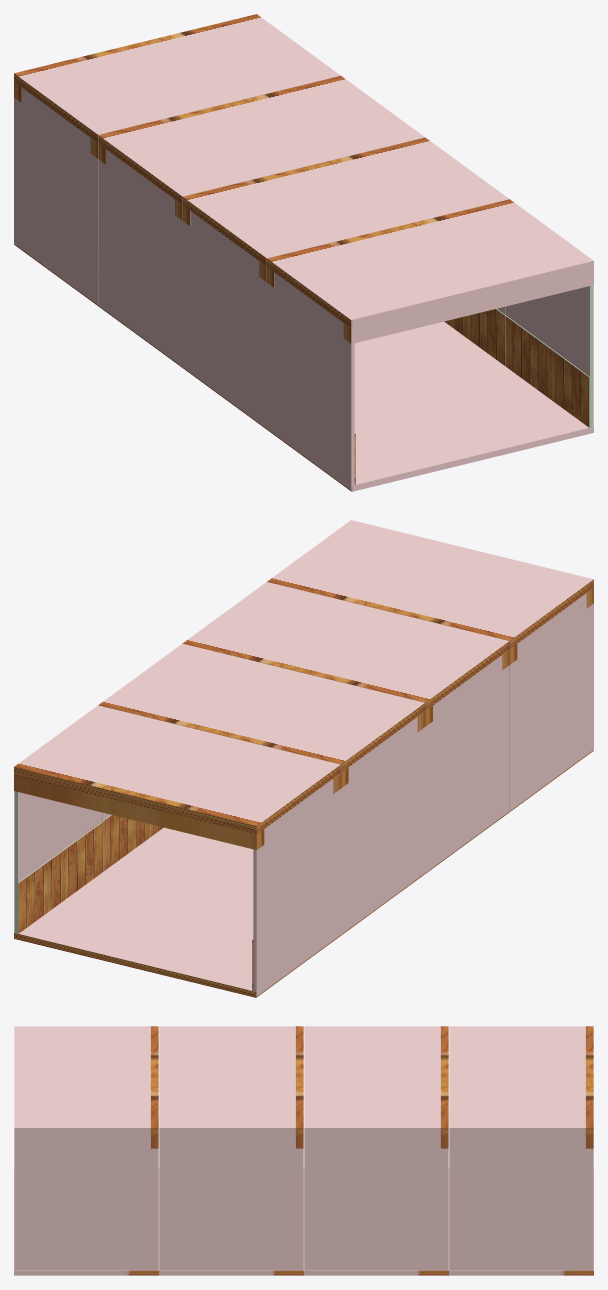
The model's file is HallWay.fbx.
The picture shows the model from 3 angles, top to bottom: view 1: azimuth 30°, elevation 25°; view 2: azimuth 150°, elevation 25°; view 3: azimuth 270°, elevation 25°; orthographic projection. The views are drawn at different scales.
Parts seen in each view (by area): view 1: HallWay; view 2: HallWay; view 3: HallWay.
Boxes of the visible parts, <box> form: HallWay: <box>14,14,593,491</box>; HallWay: <box>14,520,593,997</box>; HallWay: <box>14,1026,593,1275</box>.
Size of the model in its own units: 3500 by 2367 by 8425.
Materials: 3 (1 with a texture image).
